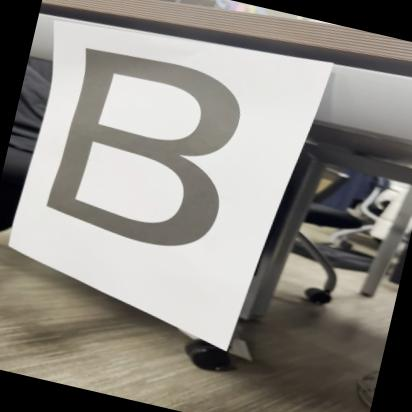seat: (29, 30, 268, 280)
